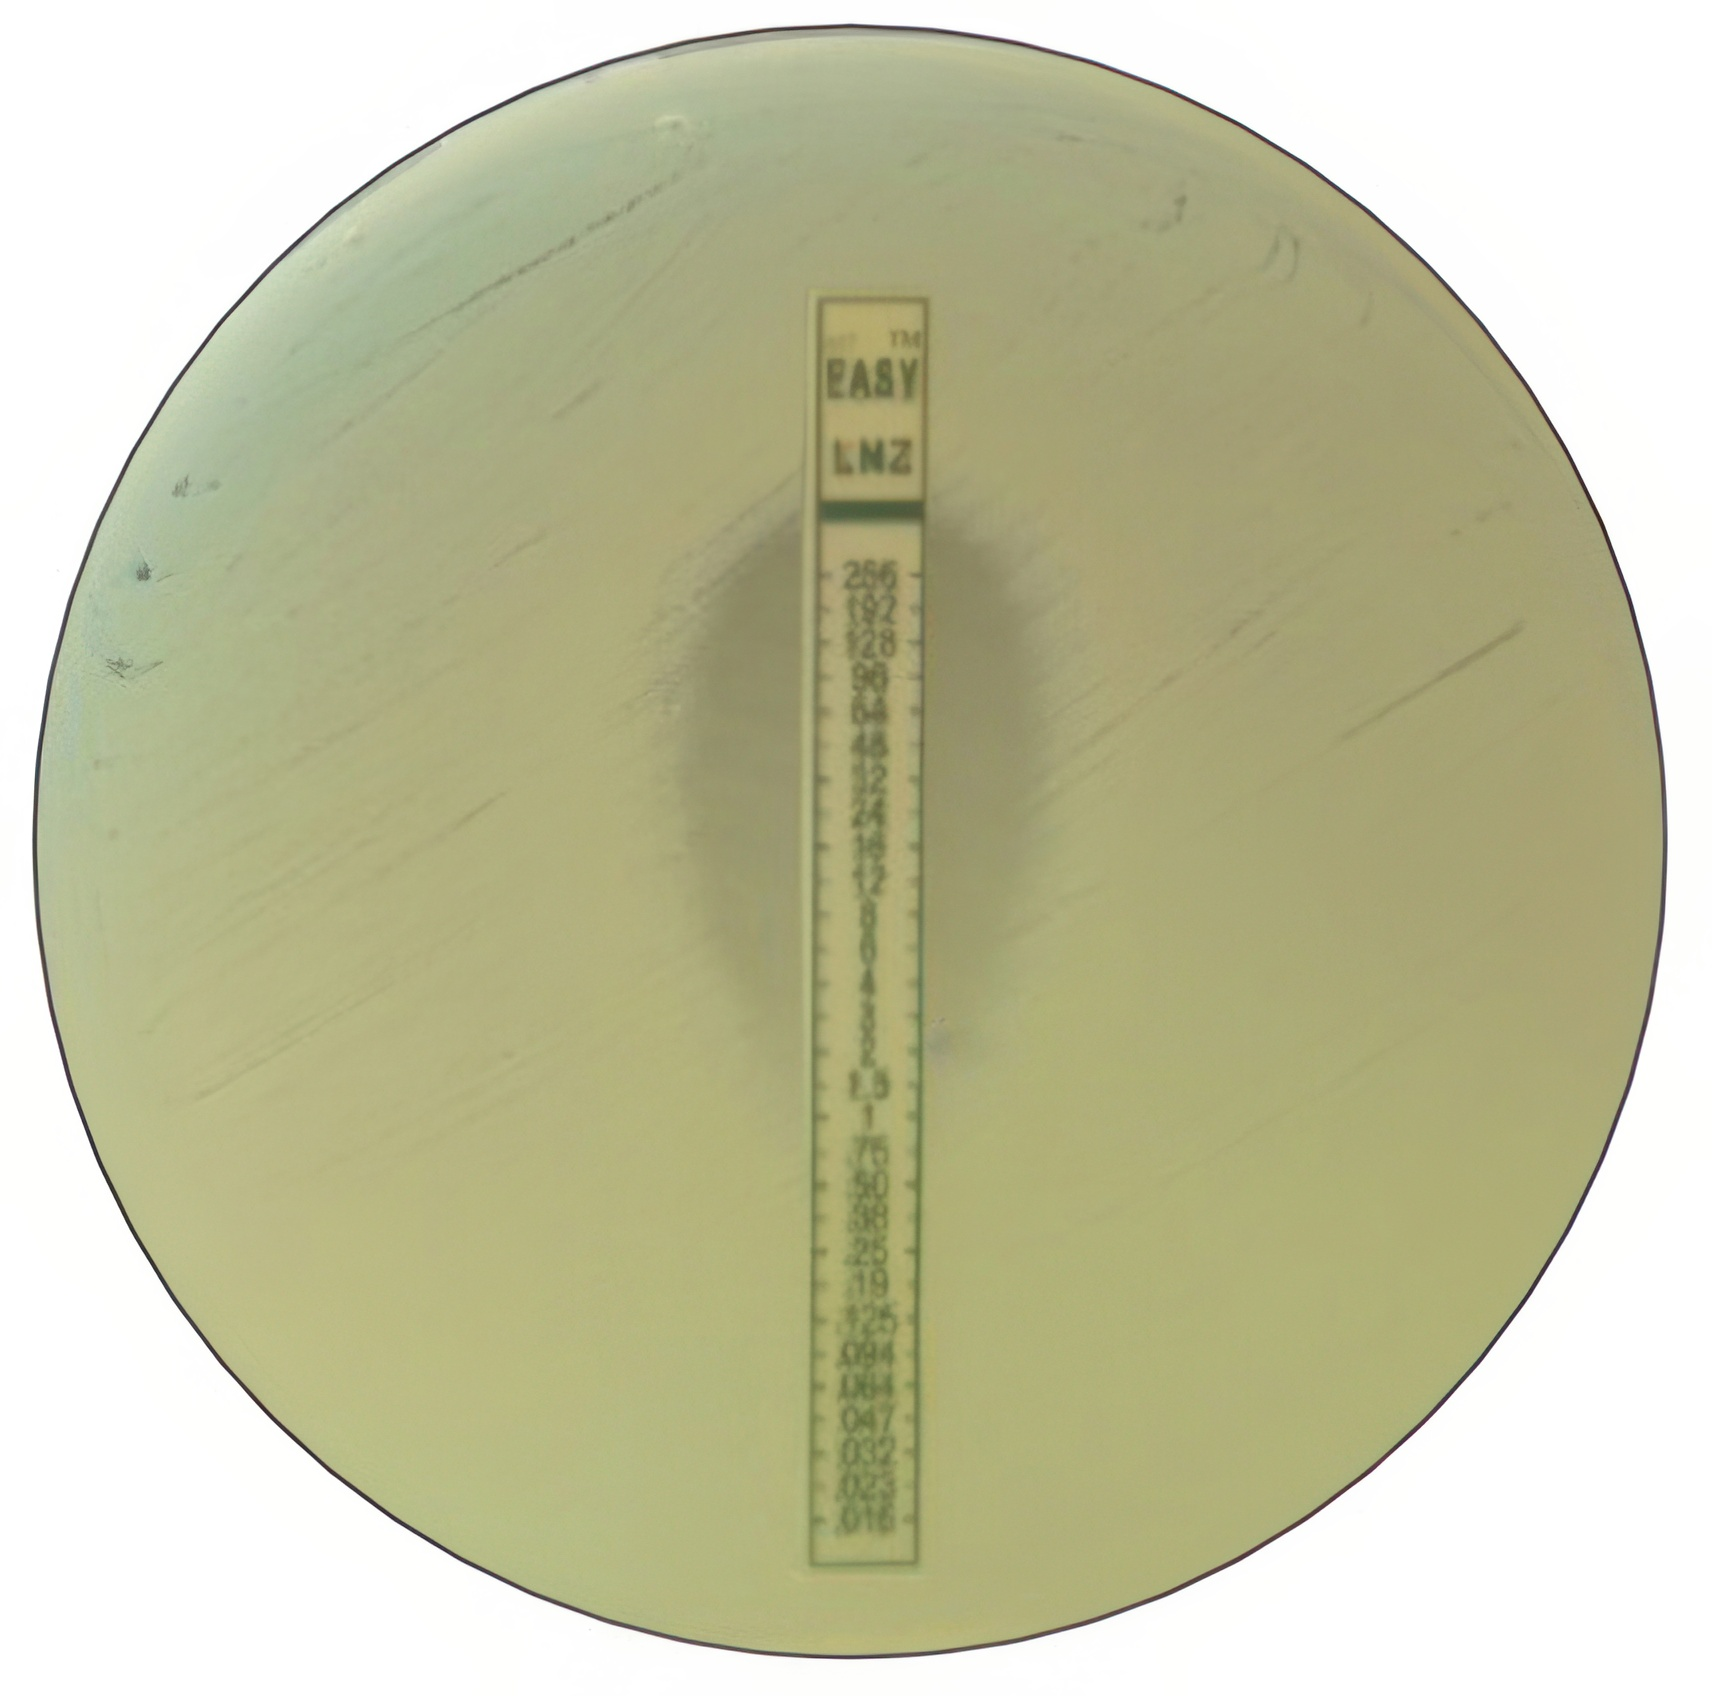line: (799, 287, 931, 1572)
zone: (691, 520, 1033, 1045)
